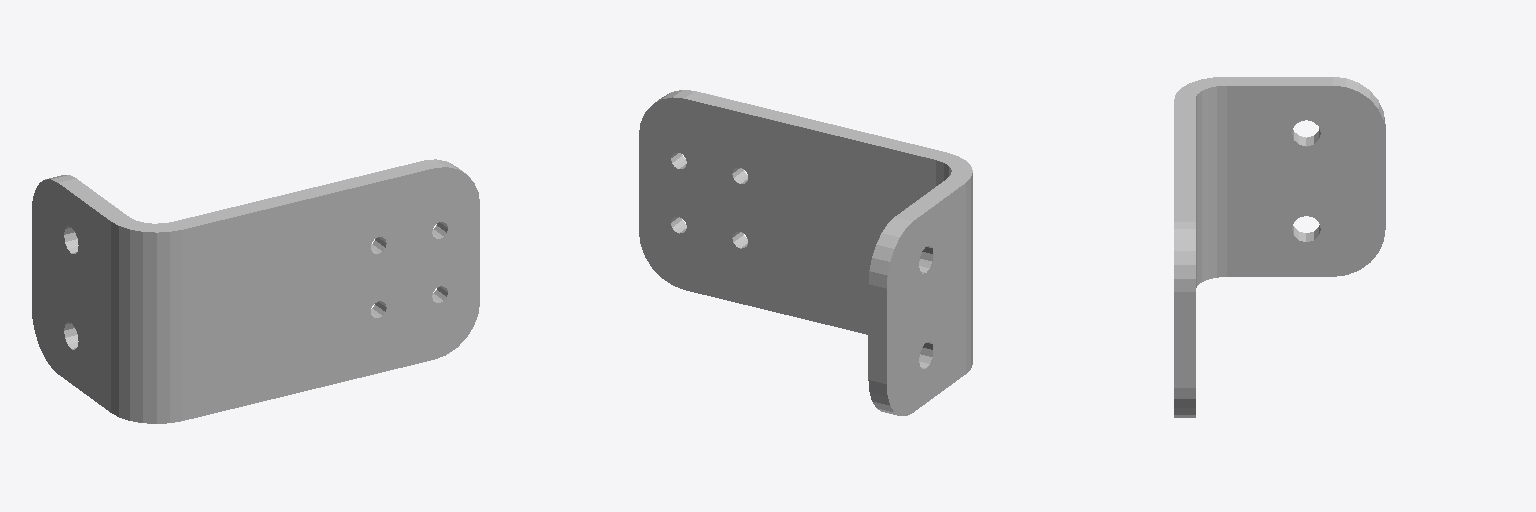
The model's file is rb-thruster-mount_visual_rb-thruster-mount.obj.
The picture shows the model from 3 angles: view 1: azimuth 30°, elevation 25°; view 2: azimuth 150°, elevation 25°; view 3: azimuth 270°, elevation 25°; orthographic projection.
Visible parts, largest first — view 1: rb-thruster-mount_visual_rb-thruster-mount; view 2: rb-thruster-mount_visual_rb-thruster-mount; view 3: rb-thruster-mount_visual_rb-thruster-mount.
Part boxes in pixels (bbox=[...]): rb-thruster-mount_visual_rb-thruster-mount: bbox=[32, 159, 479, 423]; rb-thruster-mount_visual_rb-thruster-mount: bbox=[639, 90, 972, 415]; rb-thruster-mount_visual_rb-thruster-mount: bbox=[1174, 77, 1385, 417].
Size of the model in its own units: 0.075 by 0.04 by 0.04.